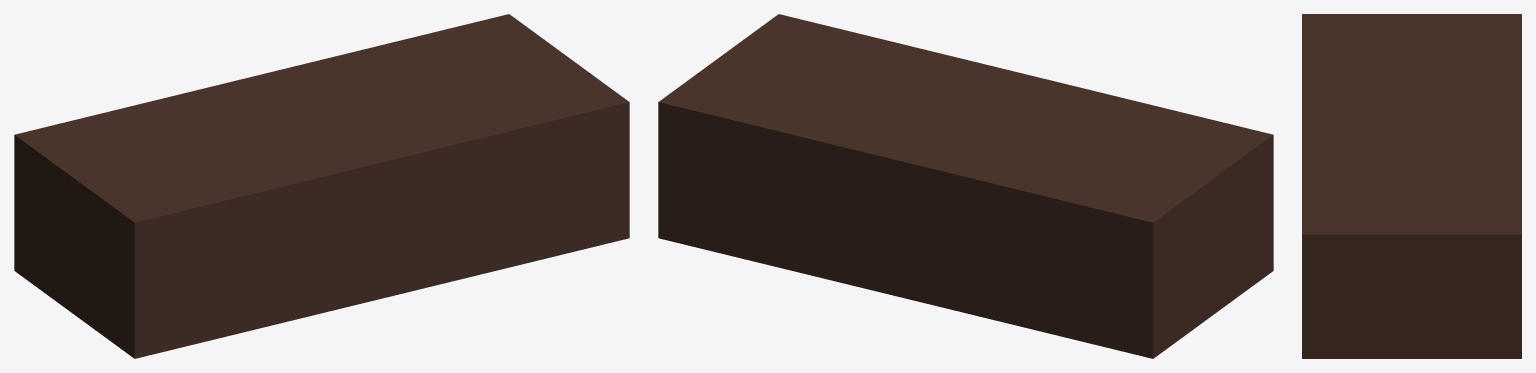
Rendered from Desk.fbx.
3 renders of one model, left to right at view 1: azimuth 30°, elevation 25°; view 2: azimuth 150°, elevation 25°; view 3: azimuth 270°, elevation 25°, orthographic. The views are drawn at different scales.
Visible parts, largest first — view 1: Desk; view 2: Desk; view 3: Desk.
Part boxes in pixels (x1,y1,x2,y2): Desk: [14, 14, 629, 358]; Desk: [658, 14, 1273, 358]; Desk: [1302, 14, 1521, 358].
Bounding box in the file's own units: 1900 × 500 × 800.
